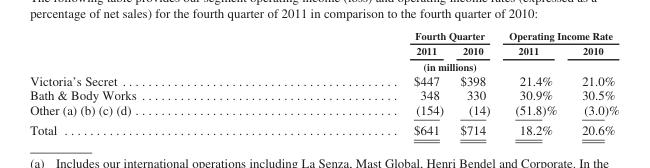table: (29, 29, 618, 137)
table column: (29, 29, 274, 137), (274, 29, 451, 137), (498, 29, 568, 137), (568, 29, 618, 137), (451, 29, 498, 137)
table column header: (29, 29, 618, 72)
table row: (29, 119, 618, 137), (29, 102, 618, 119), (29, 42, 618, 58), (29, 72, 618, 87), (29, 87, 618, 102), (29, 58, 618, 72), (29, 29, 618, 42)
table spanning cell: (274, 58, 498, 72), (274, 29, 498, 42), (498, 42, 568, 72), (498, 29, 618, 42), (568, 42, 618, 72)
